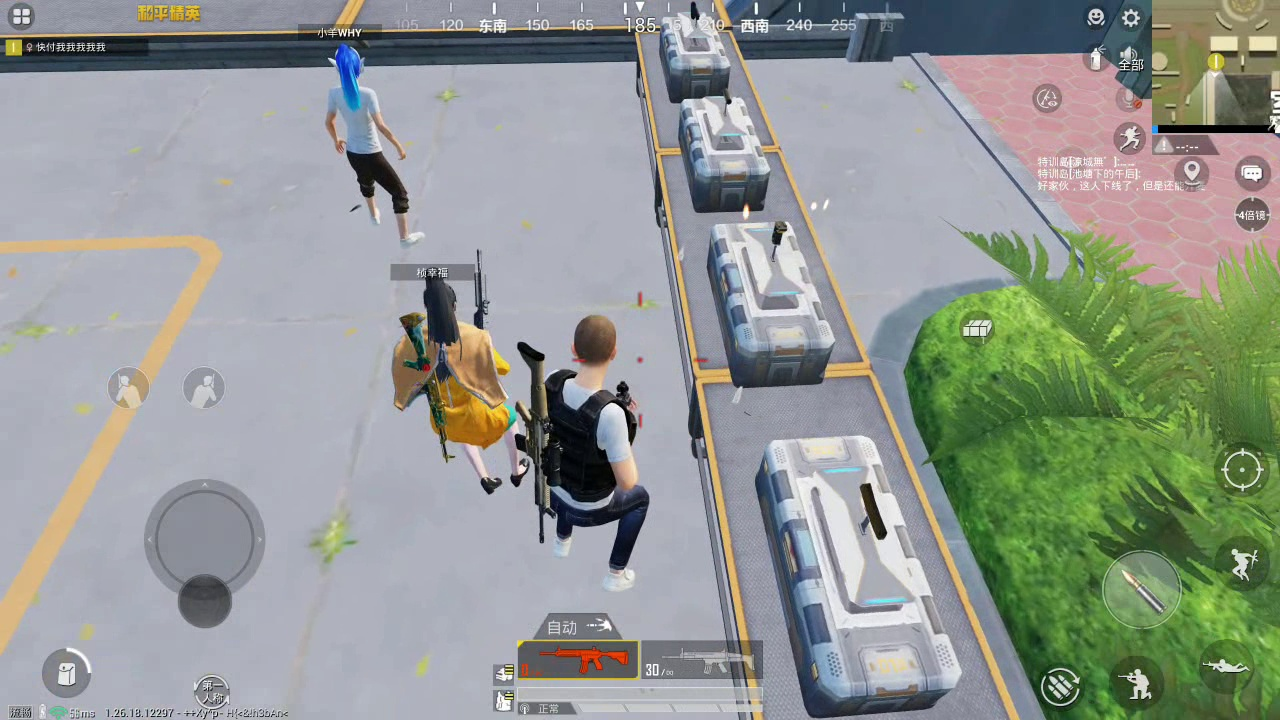enemy: (393, 272, 529, 493), (320, 40, 424, 248)
